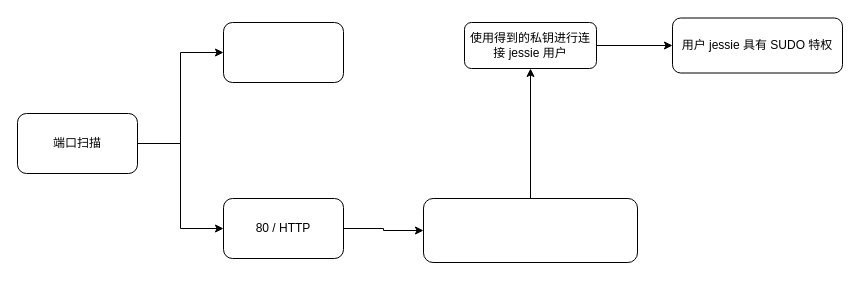
The diagram is 860 pixels wide and 289 high, and some of its shapes have lost their labels. The shapes that lost their labels are listed below. From the top down, each one's centre as x and y in pixels, then its label:
[283,52]: 22 / SSH
[530,230]: 进行扫描, 我们可以获取到以下内容 一个用户 jessie 一个 SSH 私钥
